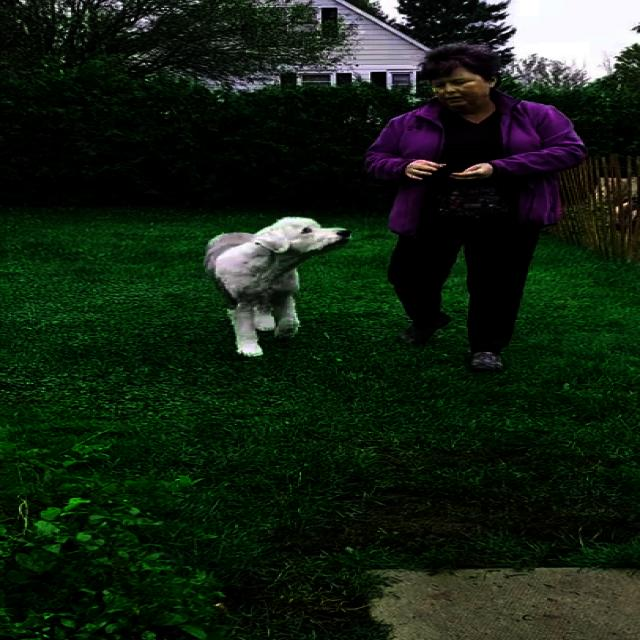Unleashed_Dog: (203, 215, 457, 356)
